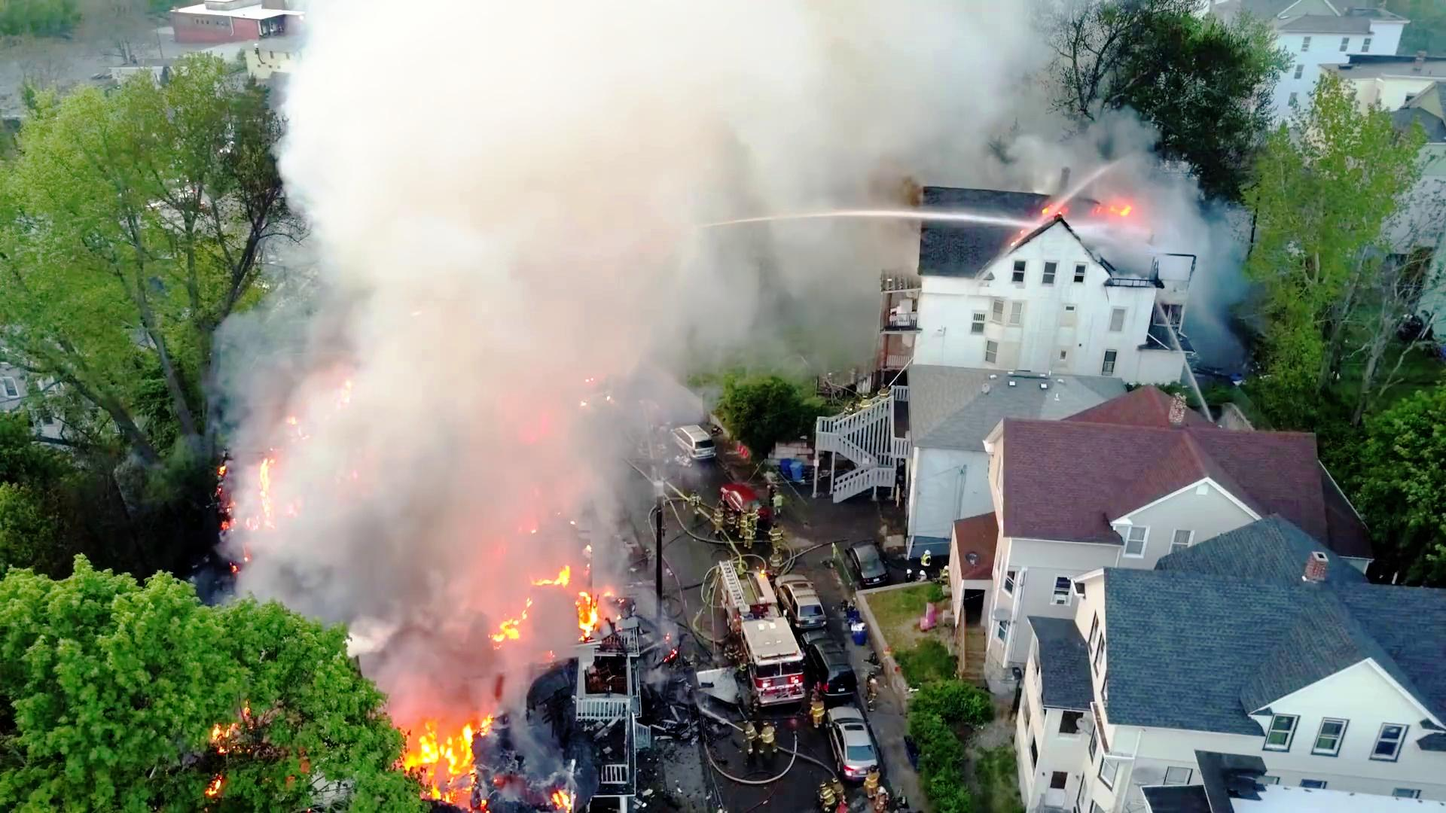fire: (490, 535, 612, 646), (388, 693, 478, 788)
smoke: (373, 0, 657, 510)
